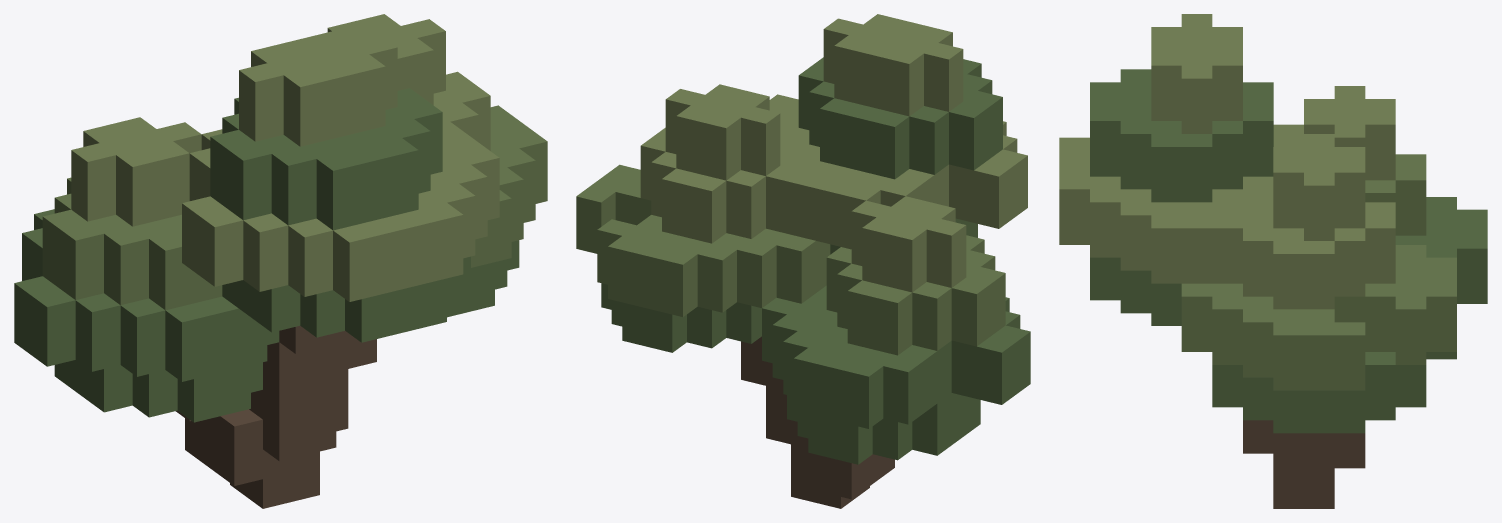
File: elderberry_young_spring.glb
The picture shows the model from 3 angles, left to right: view 1: azimuth 30°, elevation 25°; view 2: azimuth 150°, elevation 25°; view 3: azimuth 270°, elevation 25°; orthographic projection. The views are drawn at different scales.
Visible parts, largest first — view 1: VoxelVisual; view 2: VoxelVisual; view 3: VoxelVisual.
Boxes of the visible parts, x1,y1,x2,y2 form: VoxelVisual: [14, 14, 547, 508]; VoxelVisual: [576, 14, 1030, 508]; VoxelVisual: [1059, 14, 1487, 508].
Size of what is drawn, in the model's own units: 1.06 by 1 by 0.875.
